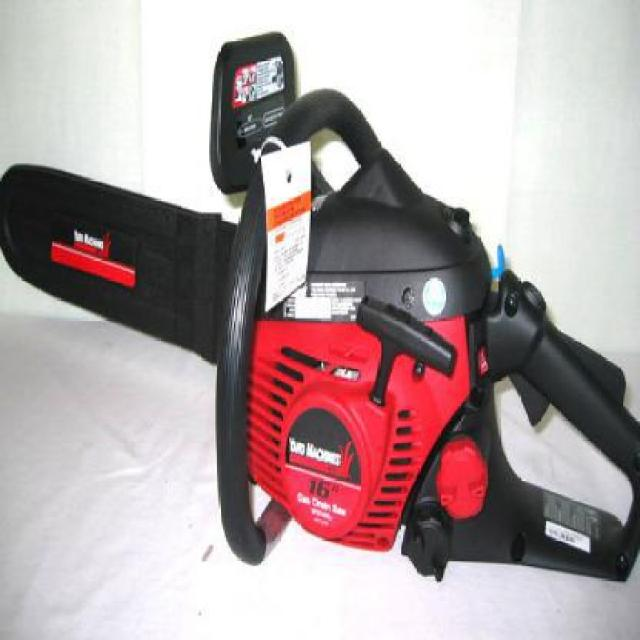Chainsaw: (0, 31, 640, 589)
